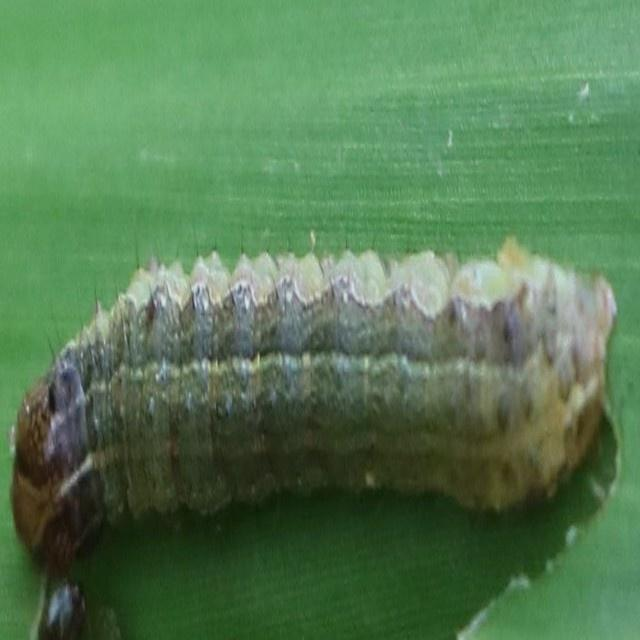worm: (9, 237, 619, 581)
